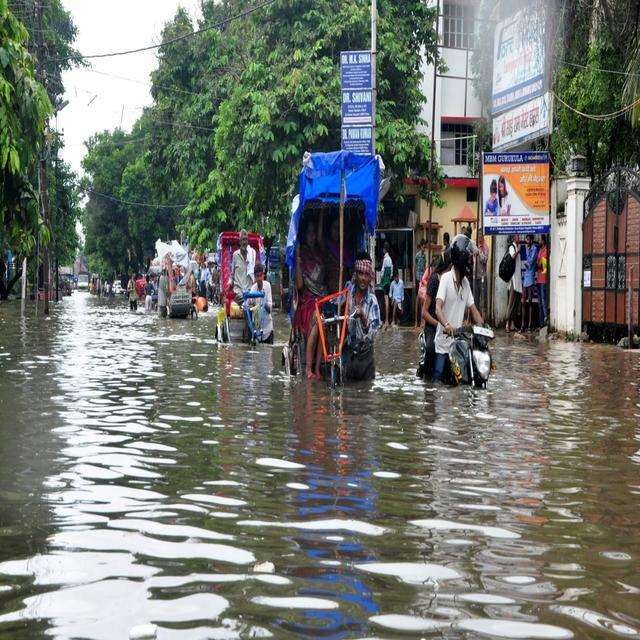Person-RiskLevel2: (413, 235, 493, 392), (287, 218, 330, 385), (334, 246, 385, 383), (228, 226, 276, 355)
